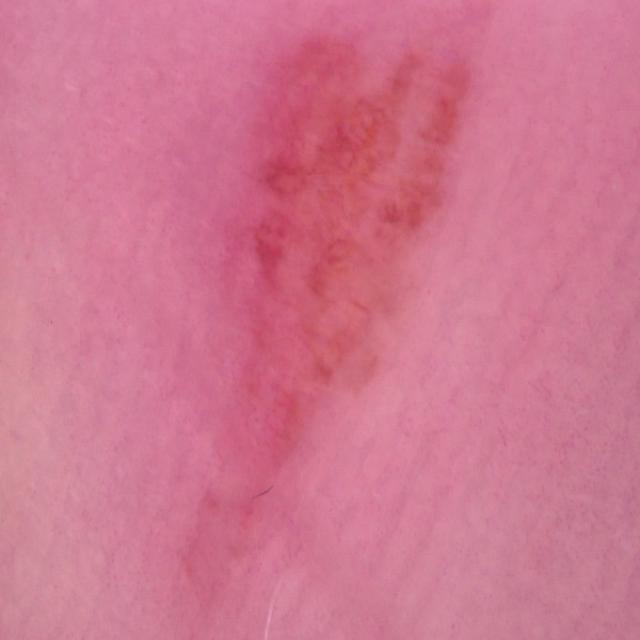NV: (160, 0, 495, 620)
